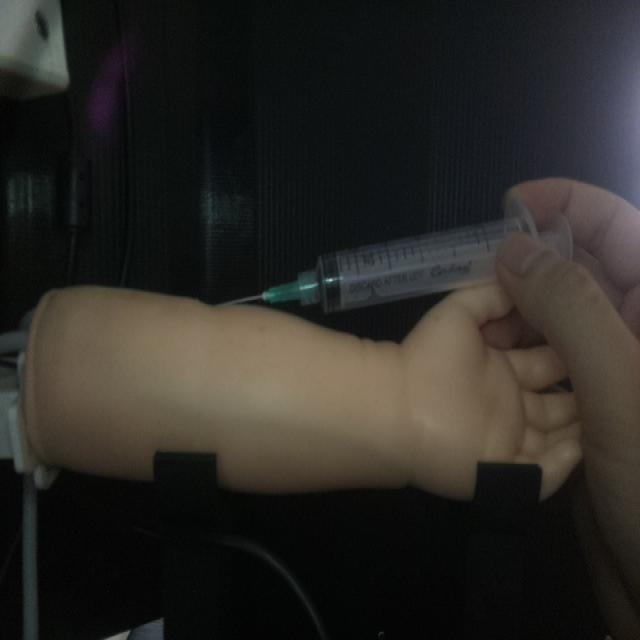Outside: (215, 188, 576, 318)
